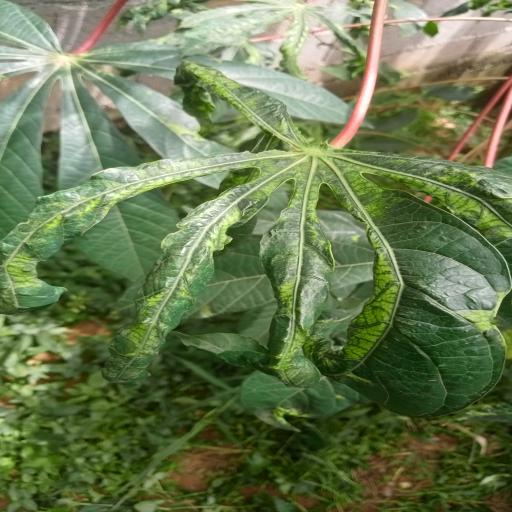Cassava_Mosaic: (0, 60, 512, 394)
